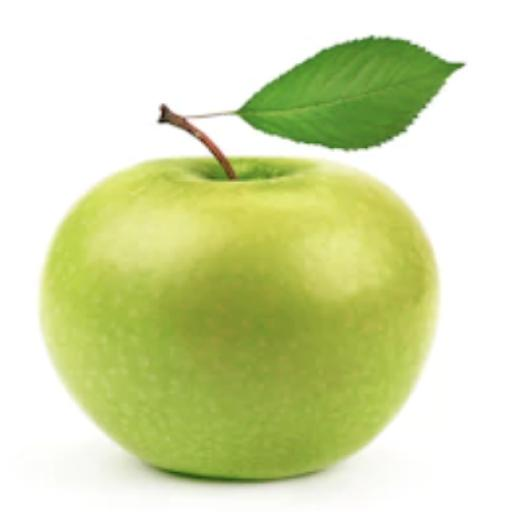apple: (41, 158, 438, 479)
